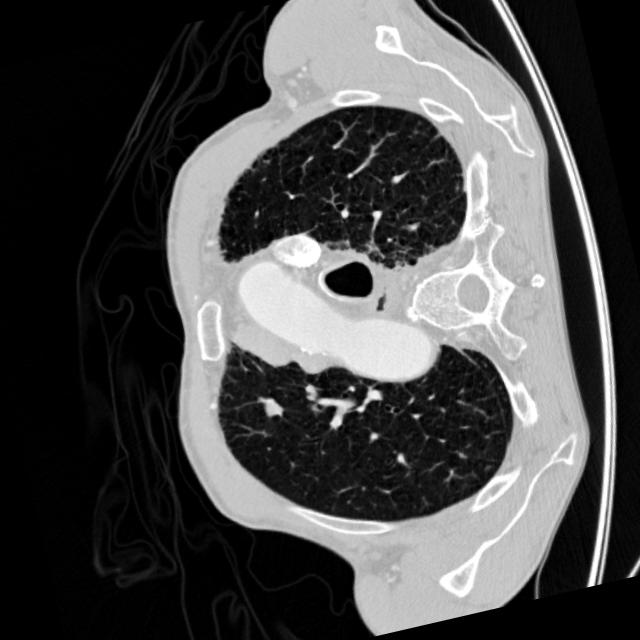nodule: (250, 385, 292, 427)
